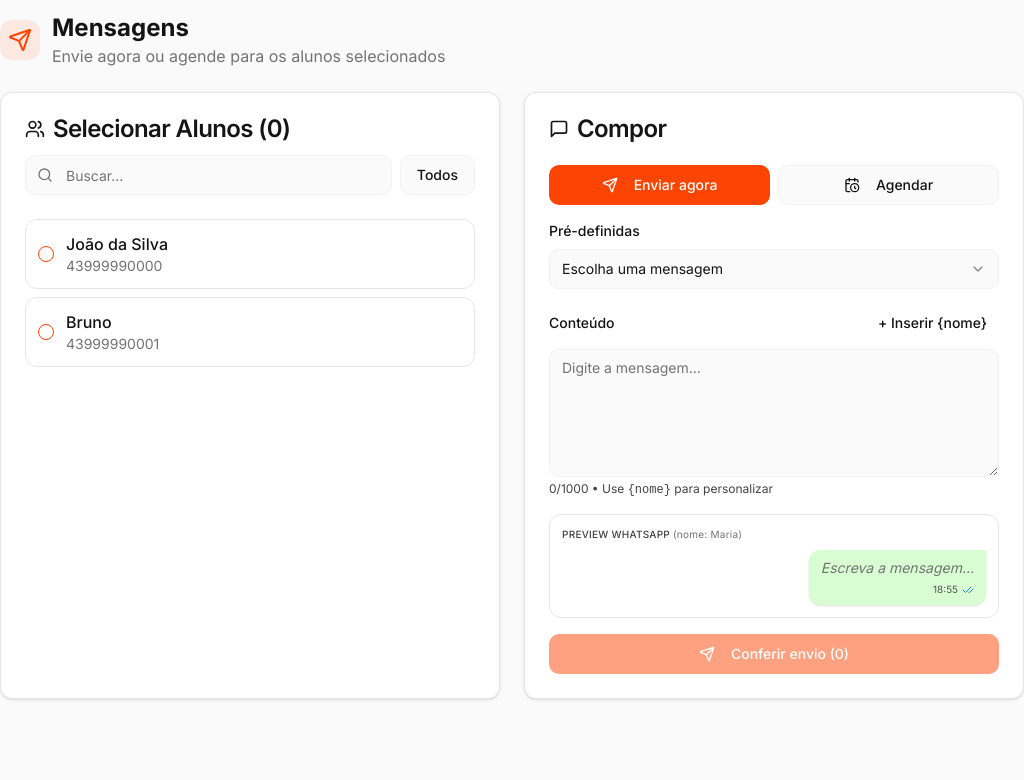
Test: finds recipients by accented name and formatted phone while keeping hidden selections
Step 1. Click the text "Bruno" → (89, 322), box [66, 312, 112, 332]
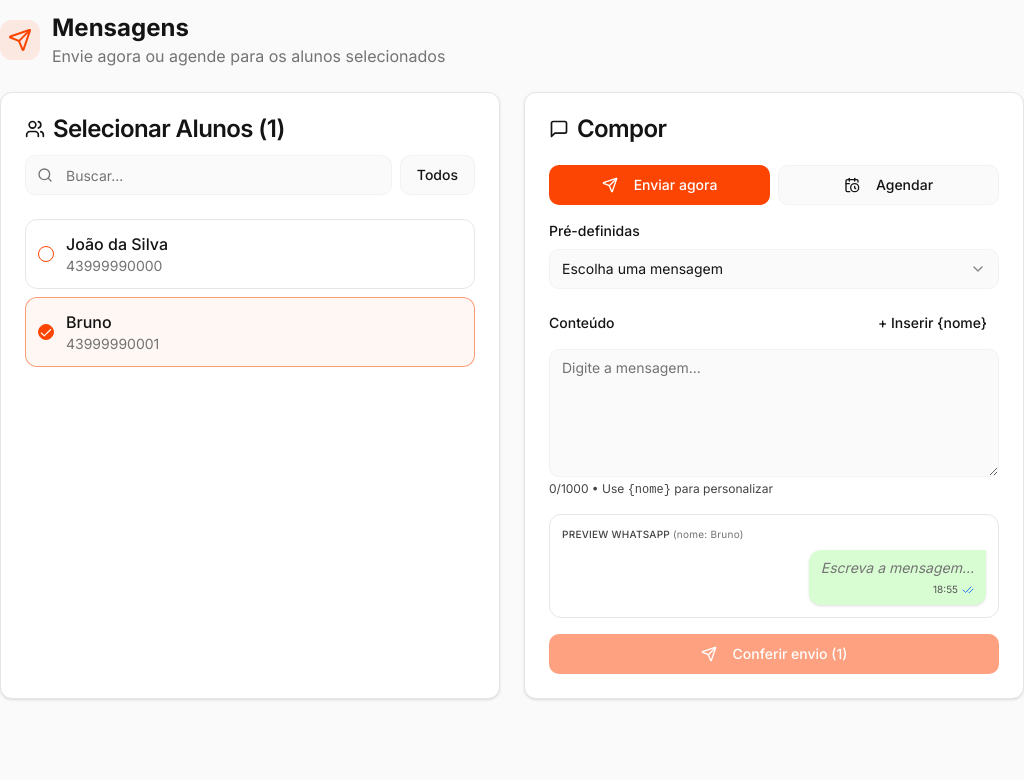
Step 2. Type "joao   da" into the field with placeholder "Buscar..." → (208, 175), box [25, 155, 392, 195]
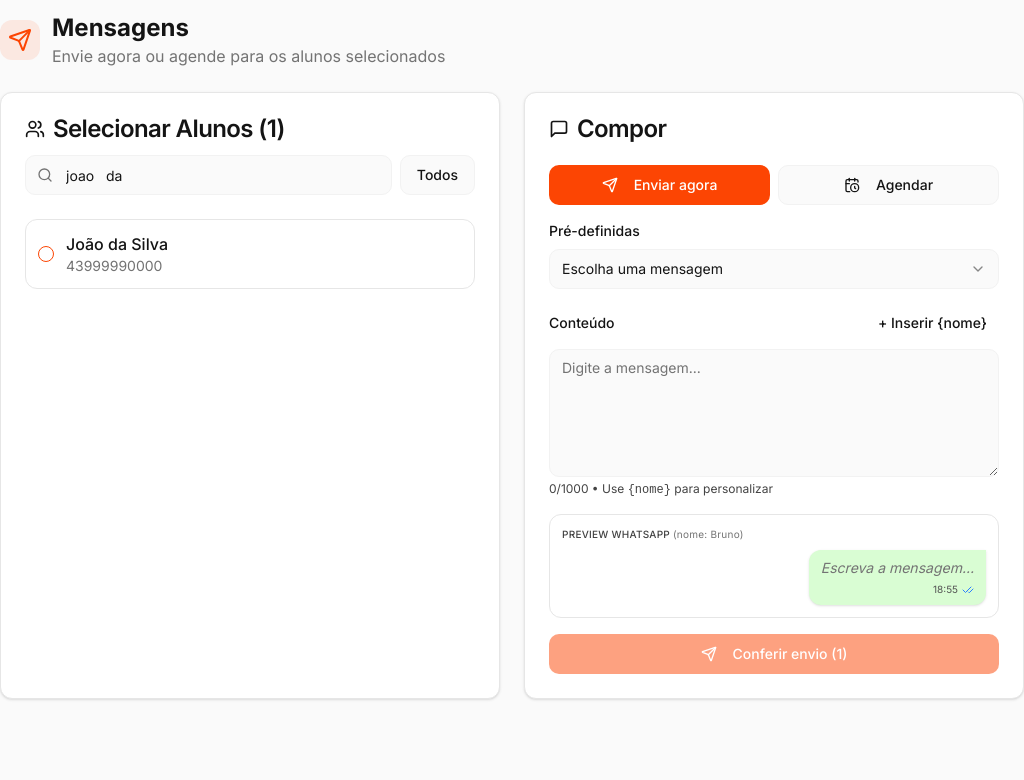
Expected: the text "João da Silva" is shown, [66, 234, 168, 254]
Step 3. Replace the text in the field with placeholder "Buscar..." with "(43) 99999-0000" → (208, 175), box [25, 155, 392, 195]
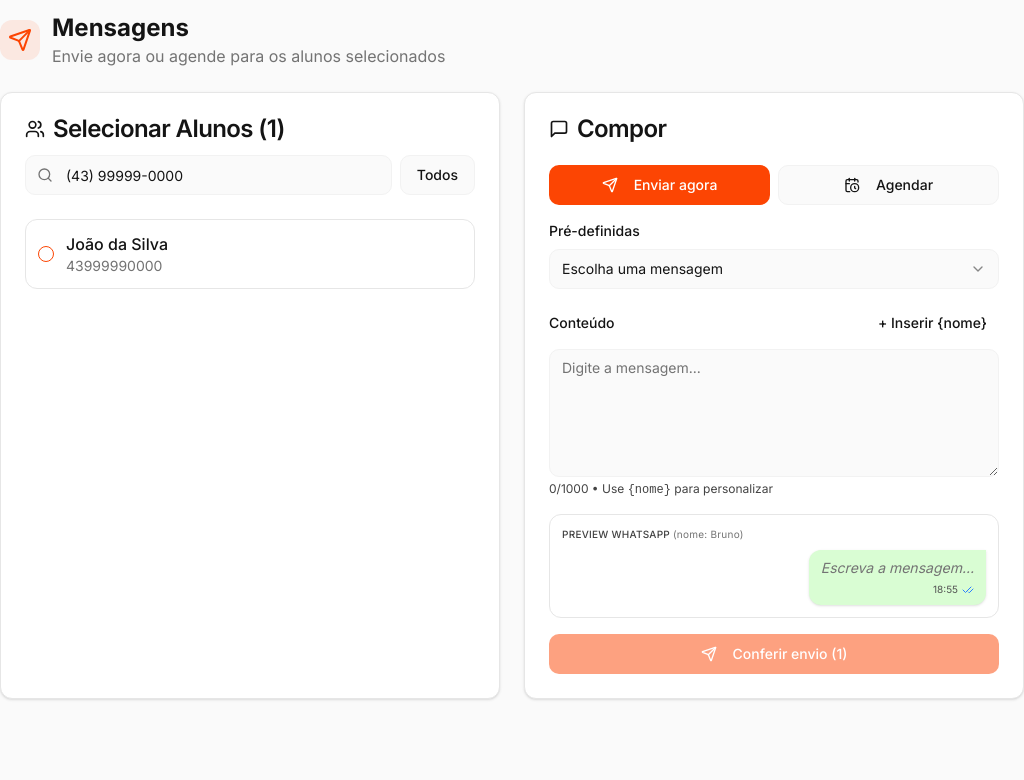
Expected: the text "João da Silva" is shown, [66, 234, 168, 254]
Step 4. Clear the field with placeholder "Buscar..." → (208, 175), box [25, 155, 392, 195]
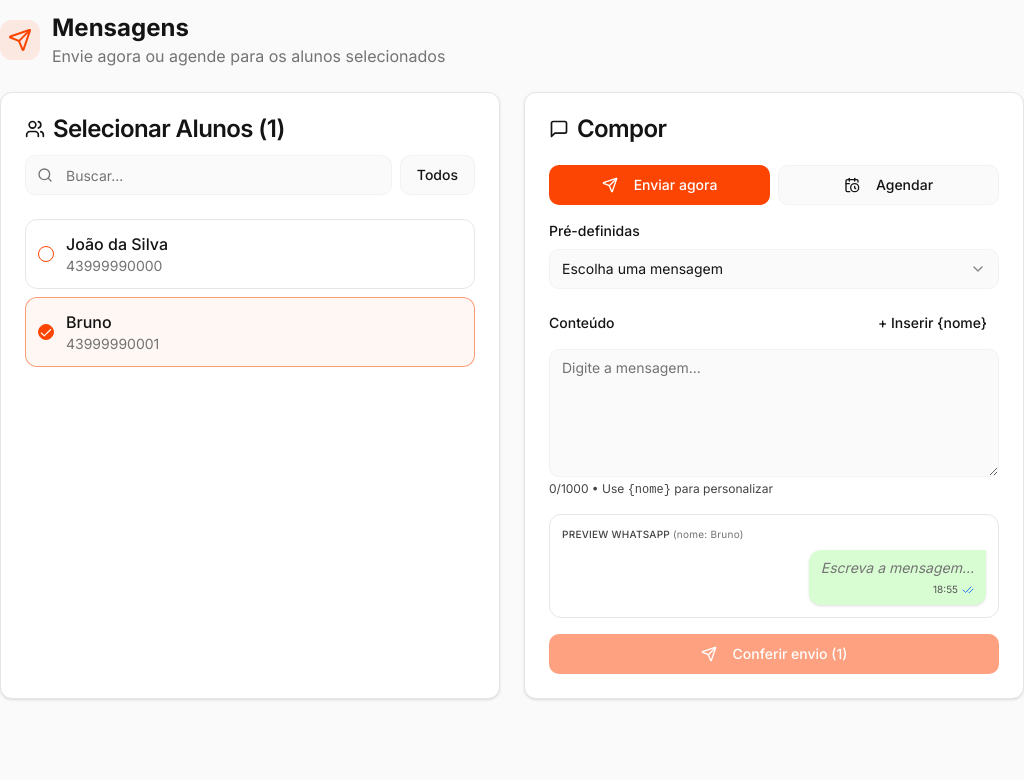
Expected: the checkbox named "Selecionar Bruno" is checked, [38, 324, 54, 340]
